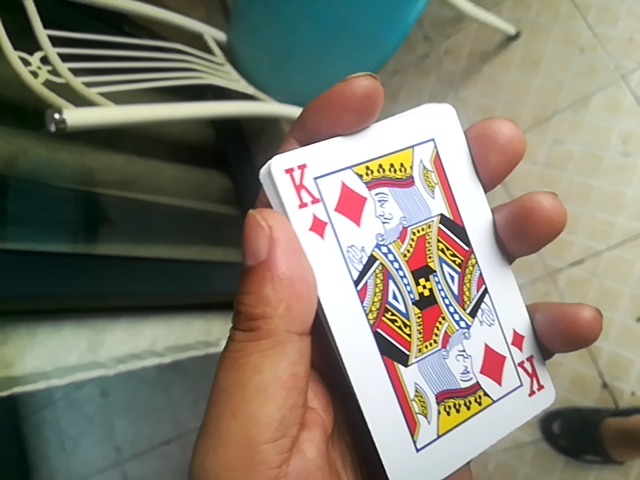fk k: (280, 94, 558, 480)
